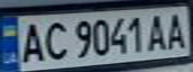0: (90, 16, 112, 57)
1: (124, 12, 145, 53)
4: (109, 13, 130, 55)
9: (69, 17, 93, 60)
A: (15, 19, 48, 64), (163, 9, 190, 51), (145, 11, 172, 52)
C: (39, 18, 69, 63)
